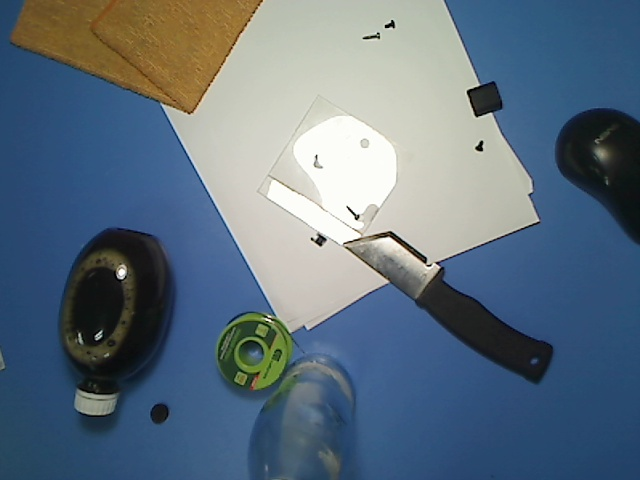plast_bottle: (53, 223, 184, 422)
